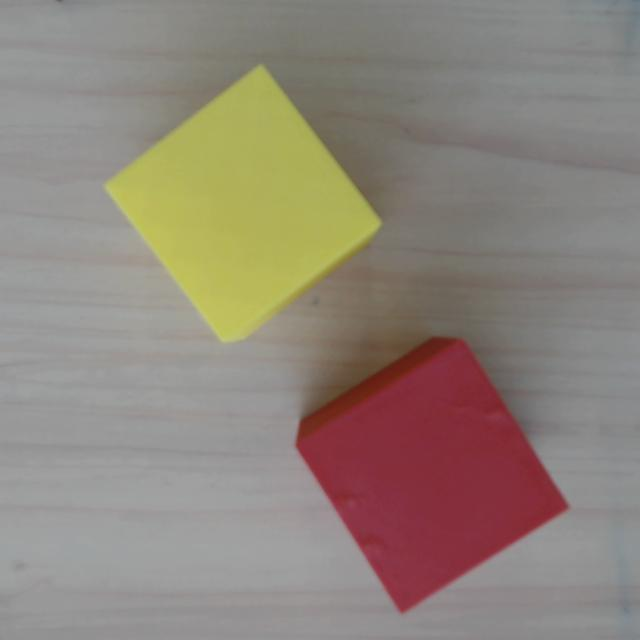Kubus-Kuning-505050: (101, 62, 388, 351)
Kubus-Merah-505050: (285, 323, 571, 614)
